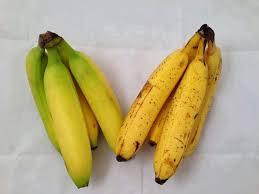banana: (130, 29, 234, 194), (10, 19, 113, 180)
